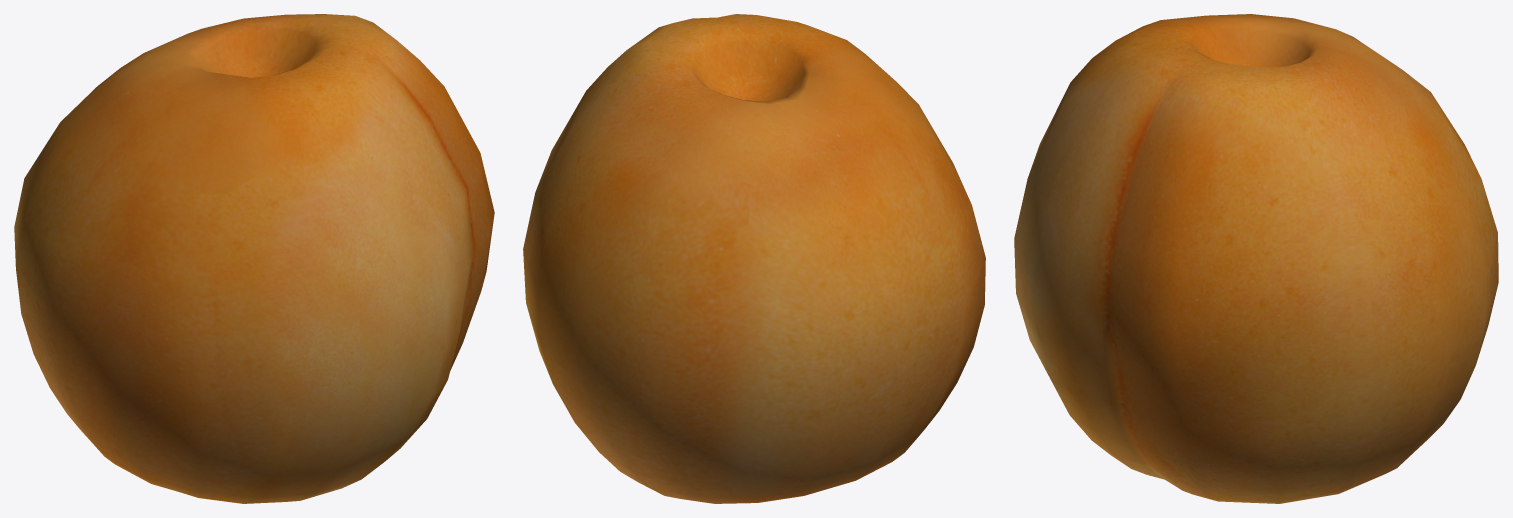
Rendered from apricot.gltf.
The picture shows the model from 3 angles, left to right: view 1: azimuth 30°, elevation 25°; view 2: azimuth 150°, elevation 25°; view 3: azimuth 270°, elevation 25°; orthographic projection. The views are drawn at different scales.
Visible parts, largest first — view 1: Line001; view 2: Line001; view 3: Line001.
Part boxes in pixels (x1,y1,x2,y2): Line001: (14, 14, 494, 503); Line001: (523, 14, 985, 503); Line001: (1014, 14, 1498, 503).
Bounding box in the file's own units: 2.08 × 2.04 × 2.07.
Materials: 1 (1 with a texture image).
